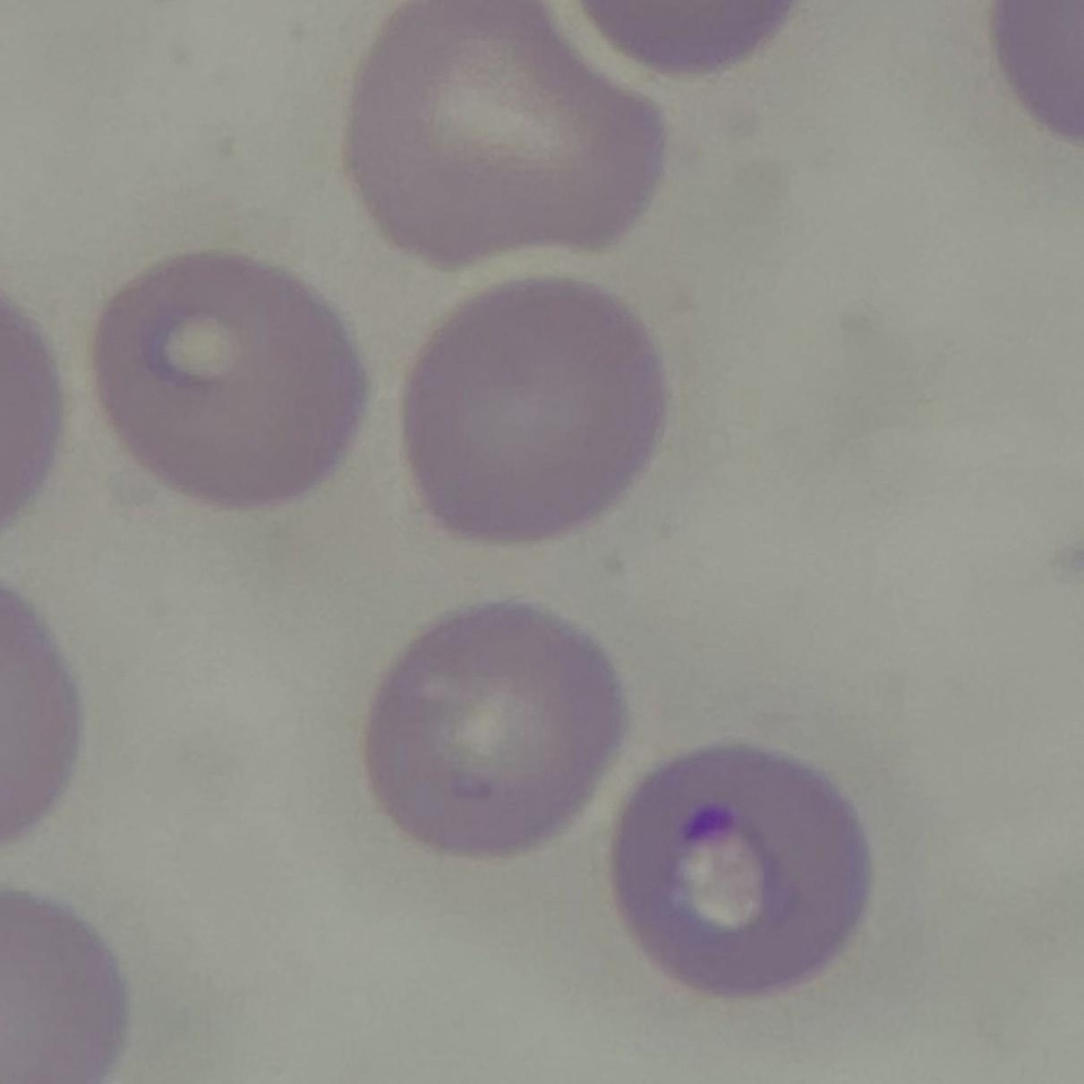Infected: (611, 748, 866, 1002)
Uninfected: (345, 0, 666, 268), (94, 247, 363, 512), (401, 280, 670, 542), (365, 596, 619, 863)
